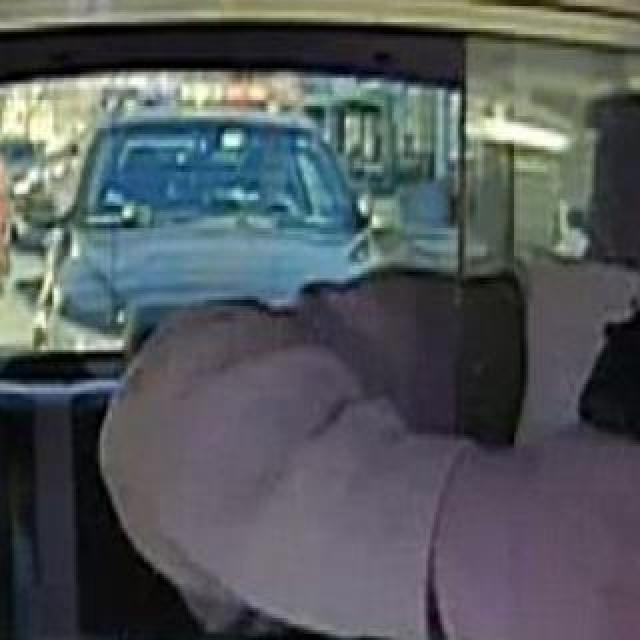Guns: (570, 270, 640, 606)
